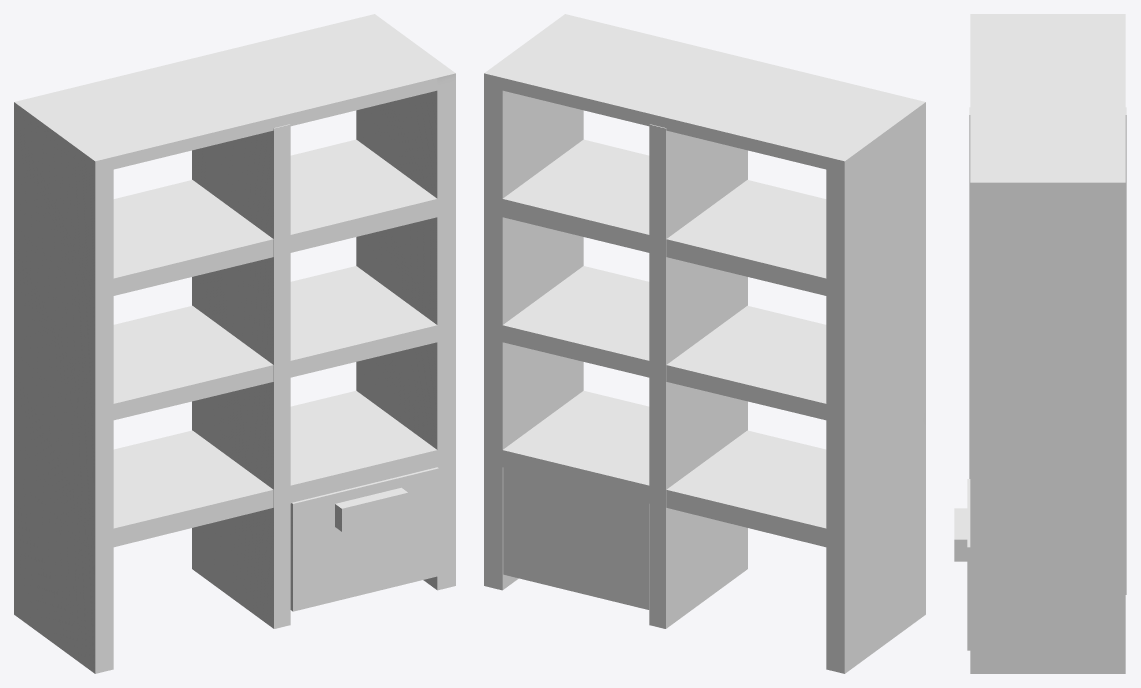
File: szafencja.fbx
3 views of the same model, side by side, from view 1: azimuth 30°, elevation 25°; view 2: azimuth 150°, elevation 25°; view 3: azimuth 270°, elevation 25° (orthographic). The views are drawn at different scales.
Visible parts, largest first — view 1: Cube.001; view 2: Cube.001; view 3: Cube.001.
Part boxes in pixels (<box>): Cube.001: <box>14,14,455,673</box>; Cube.001: <box>484,14,925,673</box>; Cube.001: <box>954,14,1126,673</box>.
Size of the model in its own units: 211 by 287 by 91.17.
1 material, 1 textured.
